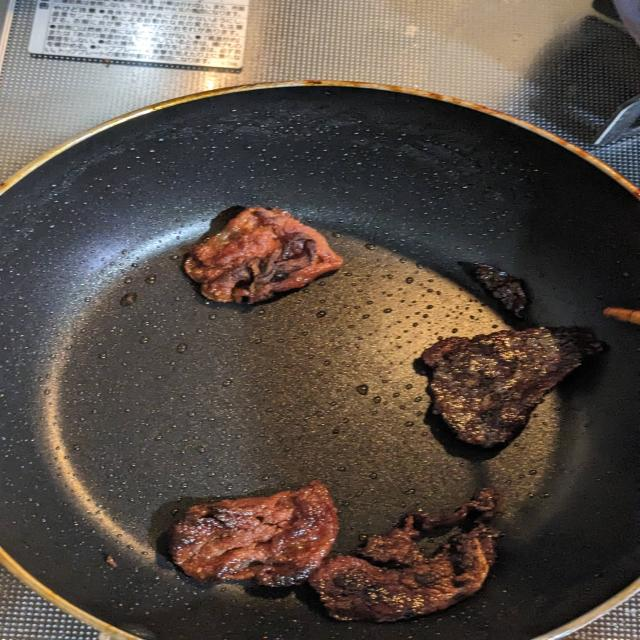overcooked beef,: (304, 484, 500, 633), (408, 318, 609, 457)
overcooked pork: (163, 192, 370, 309), (159, 480, 348, 592)
